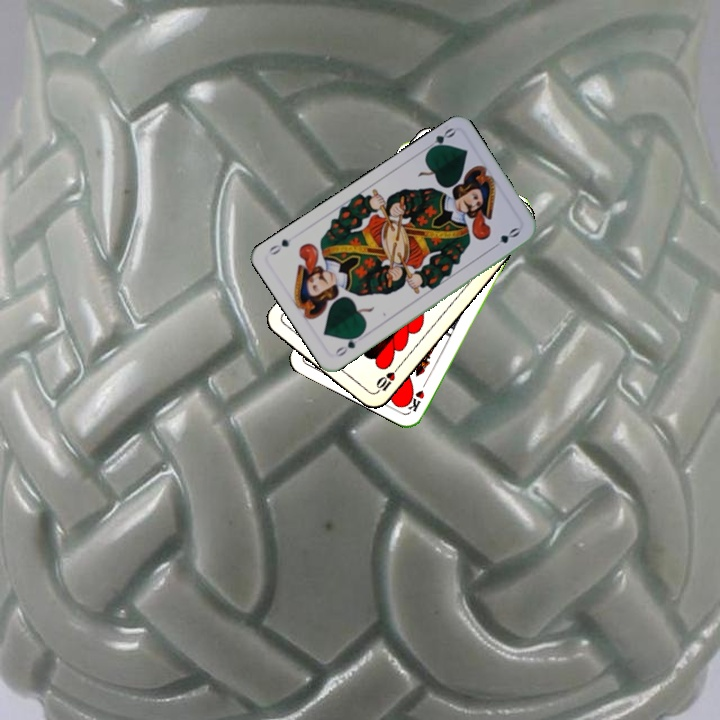GO: (421, 124, 458, 155), (331, 329, 367, 359)
H10: (371, 362, 402, 396)
HK: (404, 376, 430, 415)
